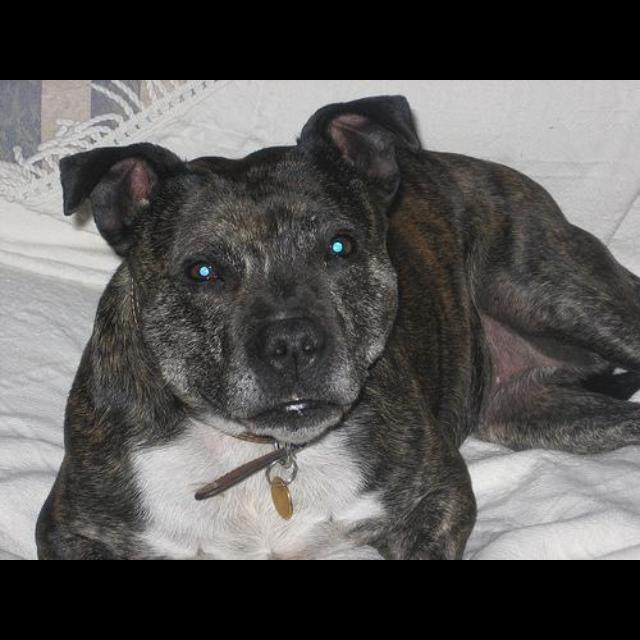staffford: (35, 95, 640, 560)
